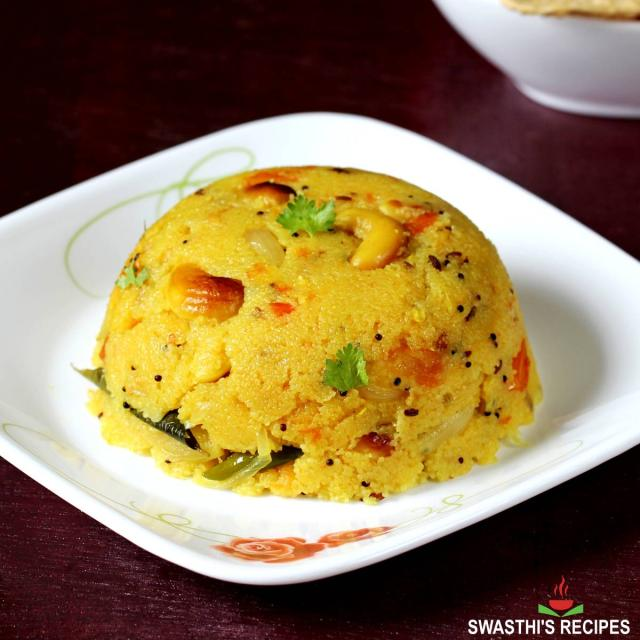UPMA: (86, 168, 542, 497)
